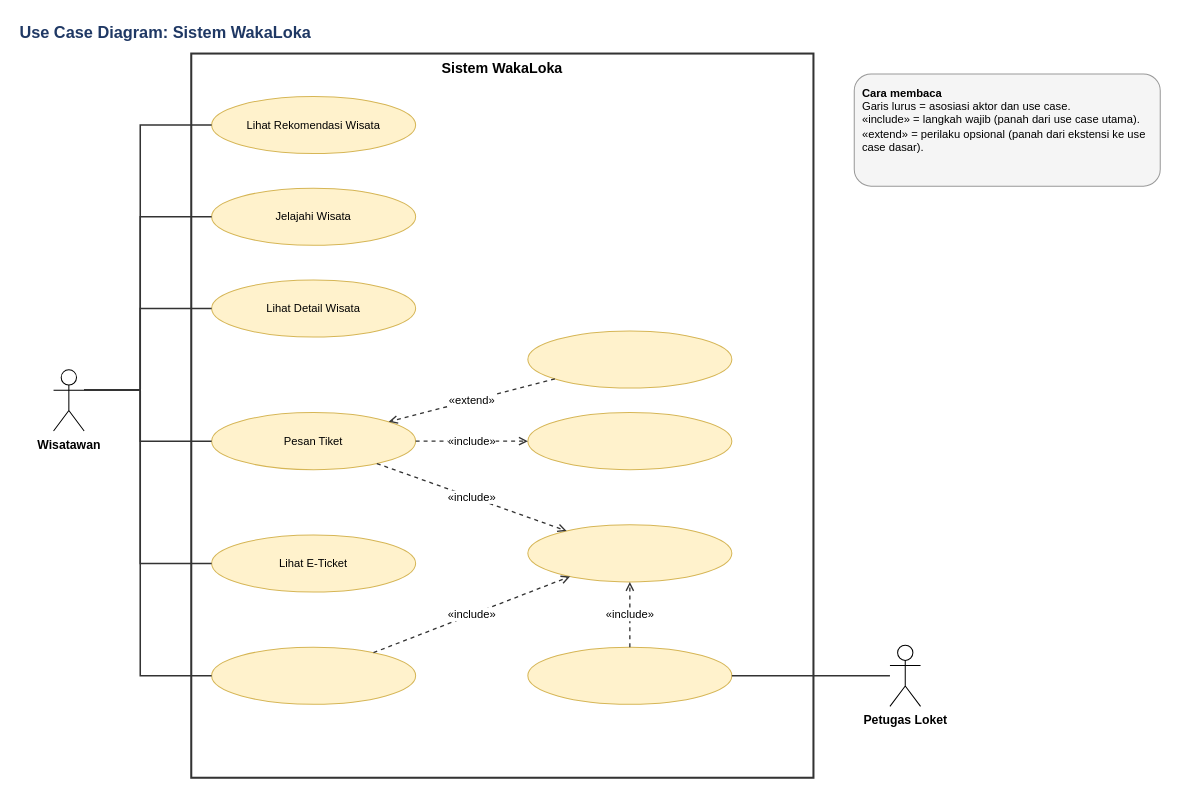
This 1178x796 diagram has some shape labels left out. Each missing label, with the box of its shape:
Lihat Ringkasan Pembayaran: (527, 412, 732, 470)
Lihat Riwayat Pemesanan: (211, 646, 416, 704)
Login: (527, 524, 732, 582)
Tambah Produk UMKM: (527, 330, 732, 388)
Validasi Tiket: (527, 646, 732, 704)
